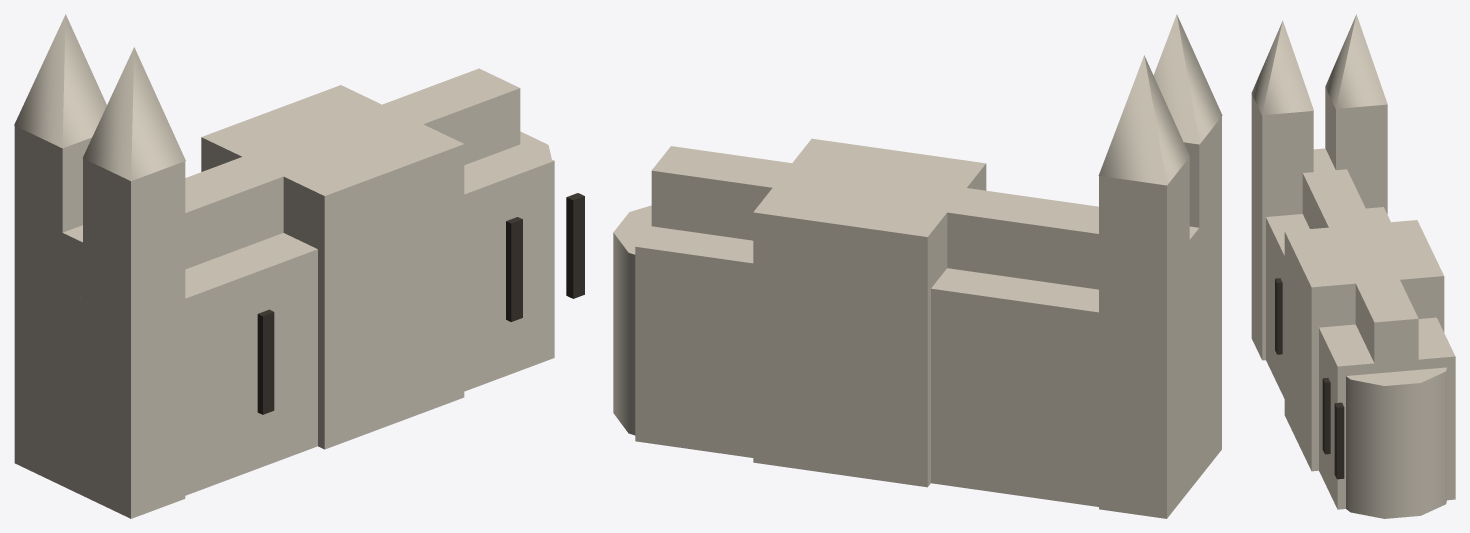
File: abbey.glb
3 views of the same model, side by side, from view 1: azimuth 30°, elevation 25°; view 2: azimuth 150°, elevation 25°; view 3: azimuth 270°, elevation 25° (orthographic). The views are drawn at different scales.
Parts seen in each view (by area): view 1: abbey; view 2: abbey; view 3: abbey.
Part boxes in pixels (<box>): abbey: <box>14,14,584,518</box>; abbey: <box>613,14,1222,518</box>; abbey: <box>1251,14,1455,518</box>.
Size of the model in its own units: 1.09 by 0.8624 by 0.4876.
